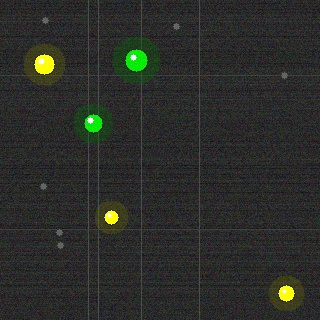green_normal: (123, 47, 149, 73), (82, 112, 104, 134)
yellow_warning: (32, 52, 56, 76), (276, 283, 296, 303), (102, 208, 120, 226)
